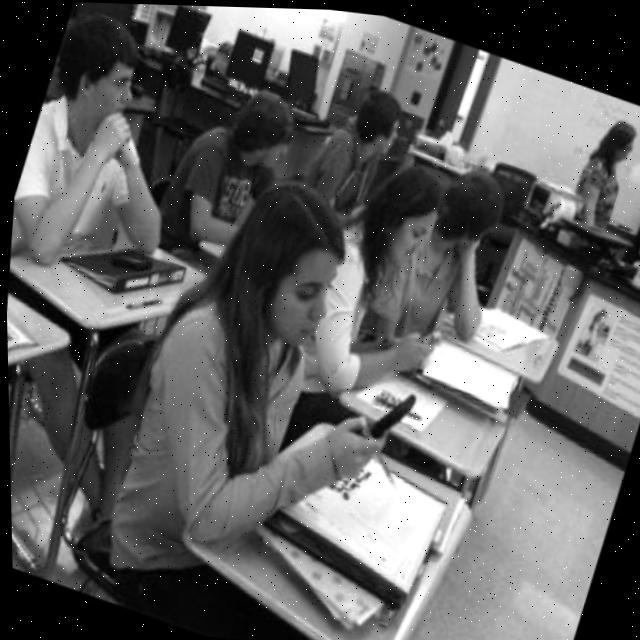phone: (362, 377, 417, 446)
